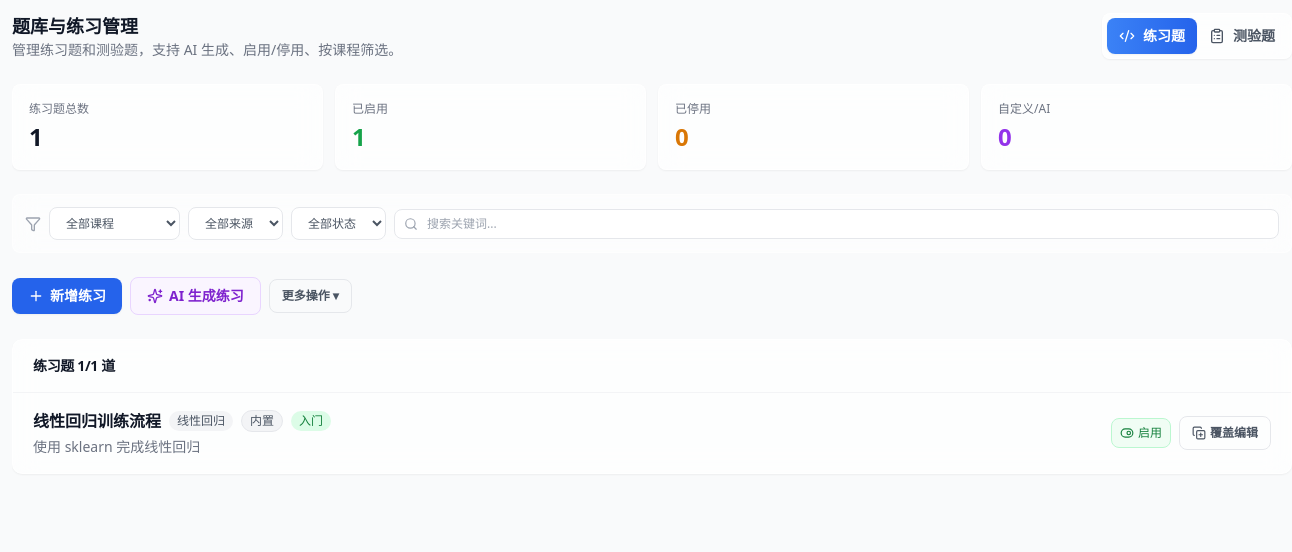
it: AdminQuestionPanel › 模式切换 › 练习Tab和测验Tab互相切换
Expected: the button "新增练习" is shown, [12, 278, 122, 314]
Expected: the text "新增测验" is not shown
# Switch to quiz
Click the button "测验题" at (1242, 36), box [1197, 18, 1287, 54]
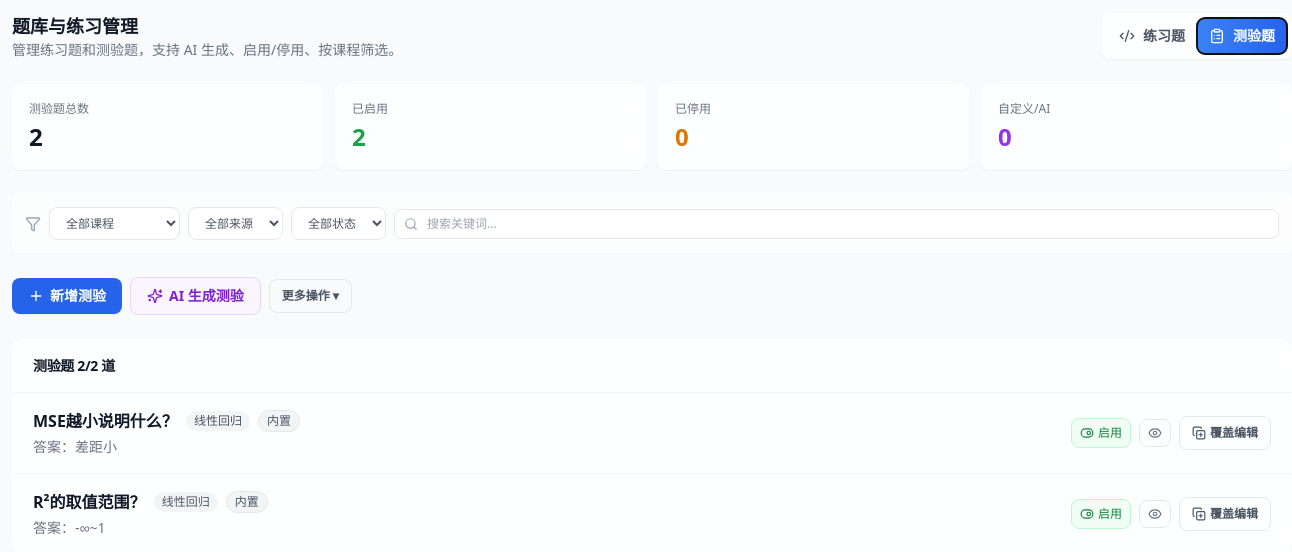
Now the button "新增测验" is shown, box [12, 278, 122, 314]
Now the button "新增练习" is gone
# Switch back
Click the button "练习题" at (1152, 36), box [1107, 18, 1197, 54]
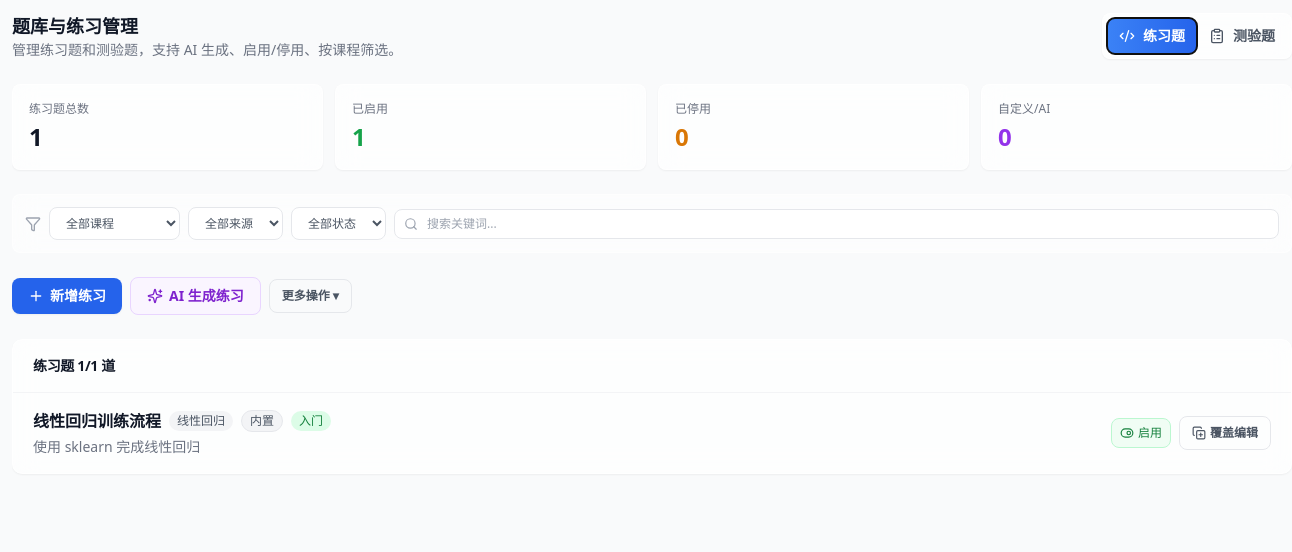
Now the button "新增练习" is shown, box [12, 278, 122, 314]
Now the text "线性回归训练流程" is shown, box [33, 409, 161, 433]
